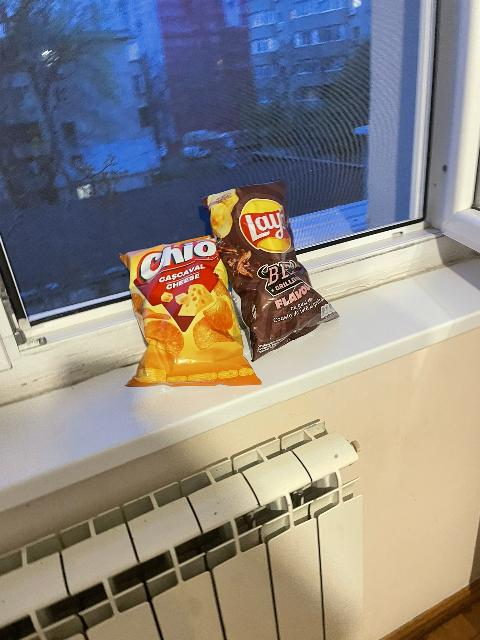Chio Cascaval 125g: (119, 235, 261, 385)
Lays Beef Grilled Ribs 125g: (208, 180, 336, 361)
